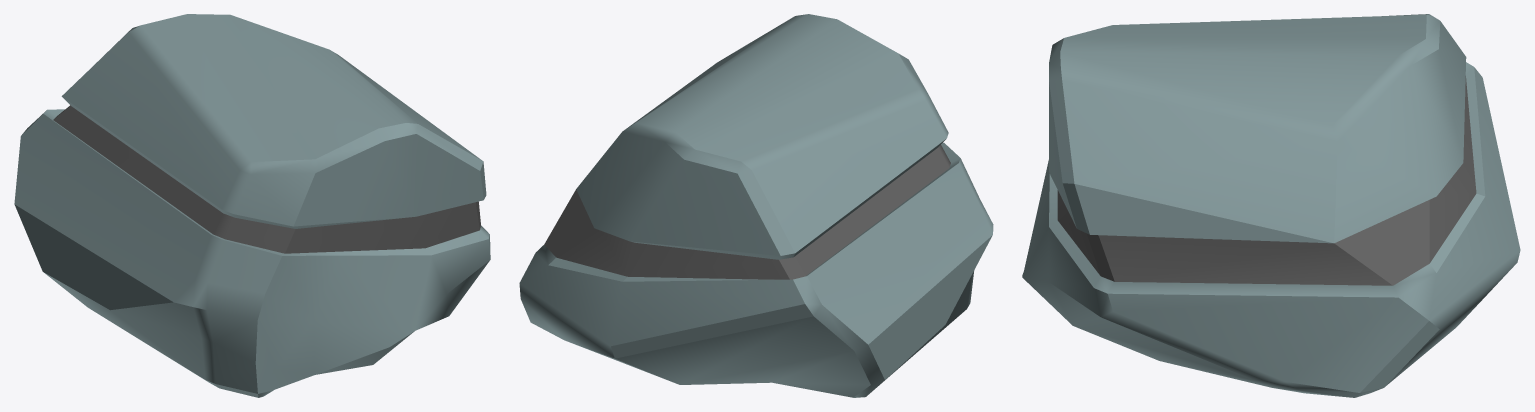
Rendered from SM_Rock_01.fbx.
3 views of the same model, side by side, from view 1: azimuth 30°, elevation 25°; view 2: azimuth 150°, elevation 25°; view 3: azimuth 270°, elevation 25° (orthographic). The views are drawn at different scales.
Parts seen in each view (by area): view 1: rock; view 2: rock; view 3: rock.
Boxes of the visible parts, x1,y1,x2,y2 form: rock: [14, 14, 490, 397]; rock: [519, 14, 993, 397]; rock: [1022, 14, 1520, 397].
Size of the model in its own units: 281 by 308 by 193.
